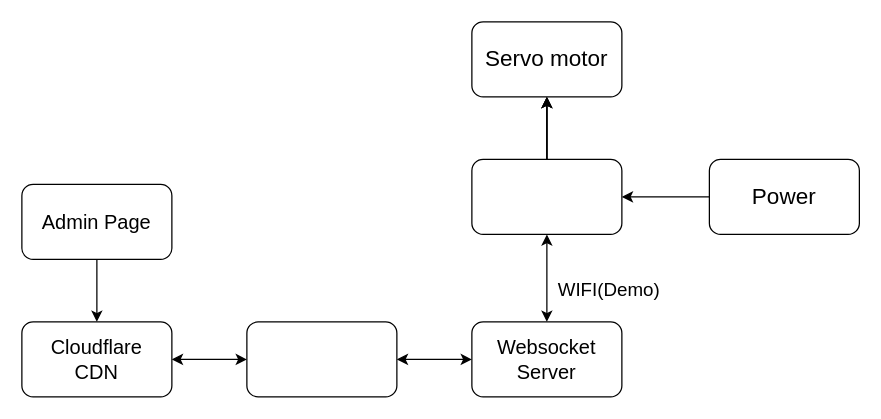
The diagram is 881 pixels wide and 419 high, and some of its shapes have lost their labels. Here are the shapes that lost their labels. From the top down, the centre of each, then its label:
At pixel 546 196: "Arduino".
At pixel 321 359: "Web Server (EC2)".
